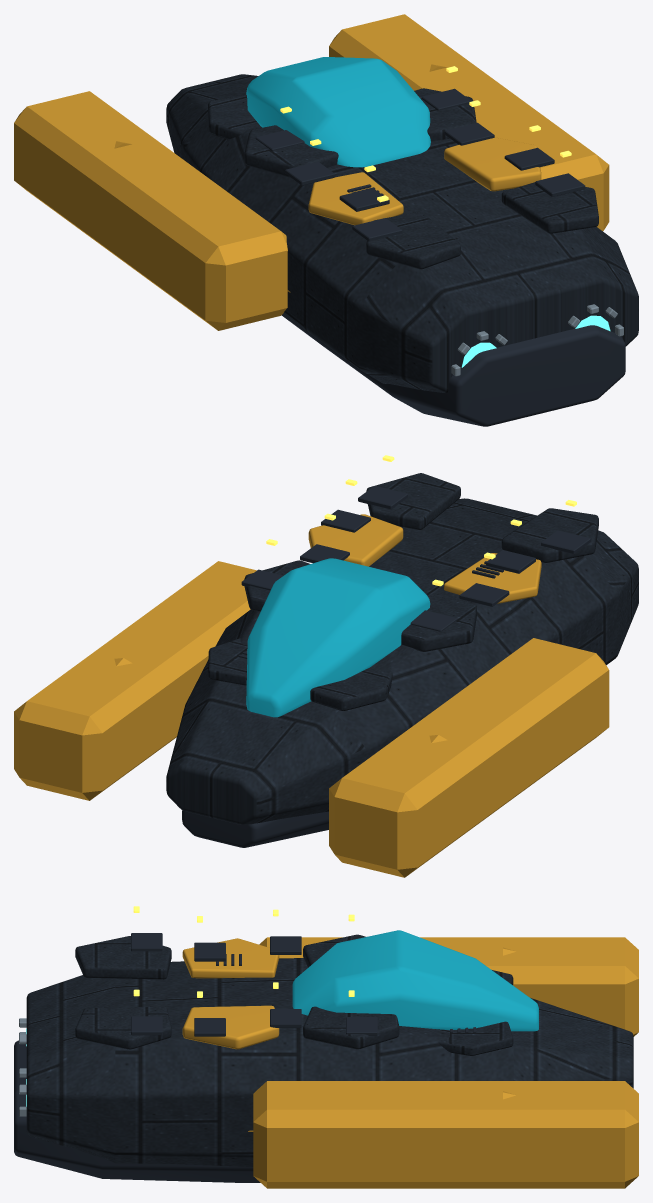
The model's file is titan.glb.
3 renders of one model, top to bottom at view 1: azimuth 30°, elevation 25°; view 2: azimuth 150°, elevation 25°; view 3: azimuth 270°, elevation 25°, orthographic. The views are drawn at different scales.
Parts seen in each view (by area): view 1: Gôndola do motor.053 · exportação, Colar da turbina.160 · exportação, Bocal do motor.053 · exportação, Cabine panorâmica.026 · exportação, Aleta do bocal.431 · exportação, Núcleo propulsor.053 · exportação; view 2: Colar da turbina.160 · exportação, Gôndola do motor.053 · exportação, Cabine panorâmica.026 · exportação, Bocal do motor.053 · exportação; view 3: Gôndola do motor.053 · exportação, Colar da turbina.160 · exportação, Cabine panorâmica.026 · exportação, Bocal do motor.053 · exportação, Aleta do bocal.431 · exportação.
Part boxes in pixels (x1=…): Gôndola do motor.053 · exportação: x1=166, y1=74, x2=638, y2=393; Colar da turbina.160 · exportação: x1=14, y1=14, x2=609, y2=330; Bocal do motor.053 · exportação: x1=255, y1=88, x2=625, y2=426; Cabine panorâmica.026 · exportação: x1=246, y1=57, x2=430, y2=167; Aleta do bocal.431 · exportação: x1=451, y1=304, x2=623, y2=376; Núcleo propulsor.053 · exportação: x1=461, y1=315, x2=610, y2=367; Colar da turbina.160 · exportação: x1=14, y1=514, x2=609, y2=877; Gôndola do motor.053 · exportação: x1=166, y1=473, x2=638, y2=824; Cabine panorâmica.026 · exportação: x1=246, y1=558, x2=430, y2=717; Bocal do motor.053 · exportação: x1=182, y1=485, x2=590, y2=847; Gôndola do motor.053 · exportação: x1=26, y1=934, x2=633, y2=1166; Colar da turbina.160 · exportação: x1=182, y1=937, x2=638, y2=1188; Cabine panorâmica.026 · exportação: x1=292, y1=930, x2=538, y2=1031; Bocal do motor.053 · exportação: x1=14, y1=933, x2=475, y2=1182; Aleta do bocal.431 · exportação: x1=19, y1=1018, x2=26, y2=1116.
Bounding box in the file's own units: 34.44 × 17.98 × 49.41.
7 materials, 1 textured.
